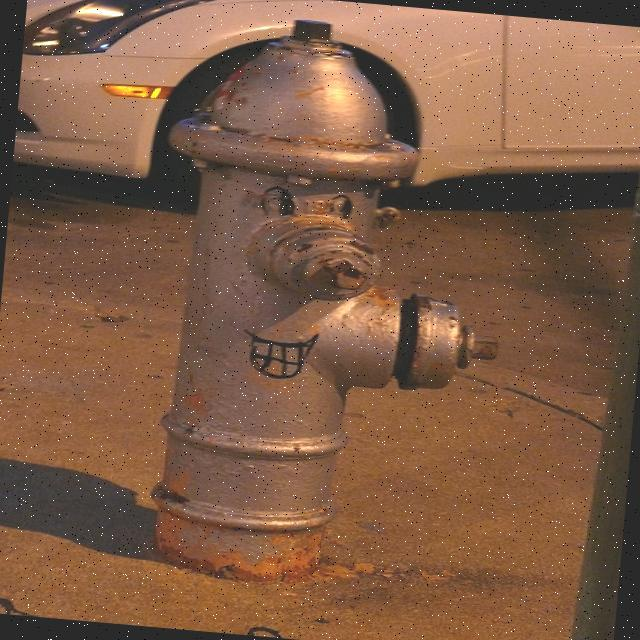fire_hydrant: (135, 6, 524, 602)
